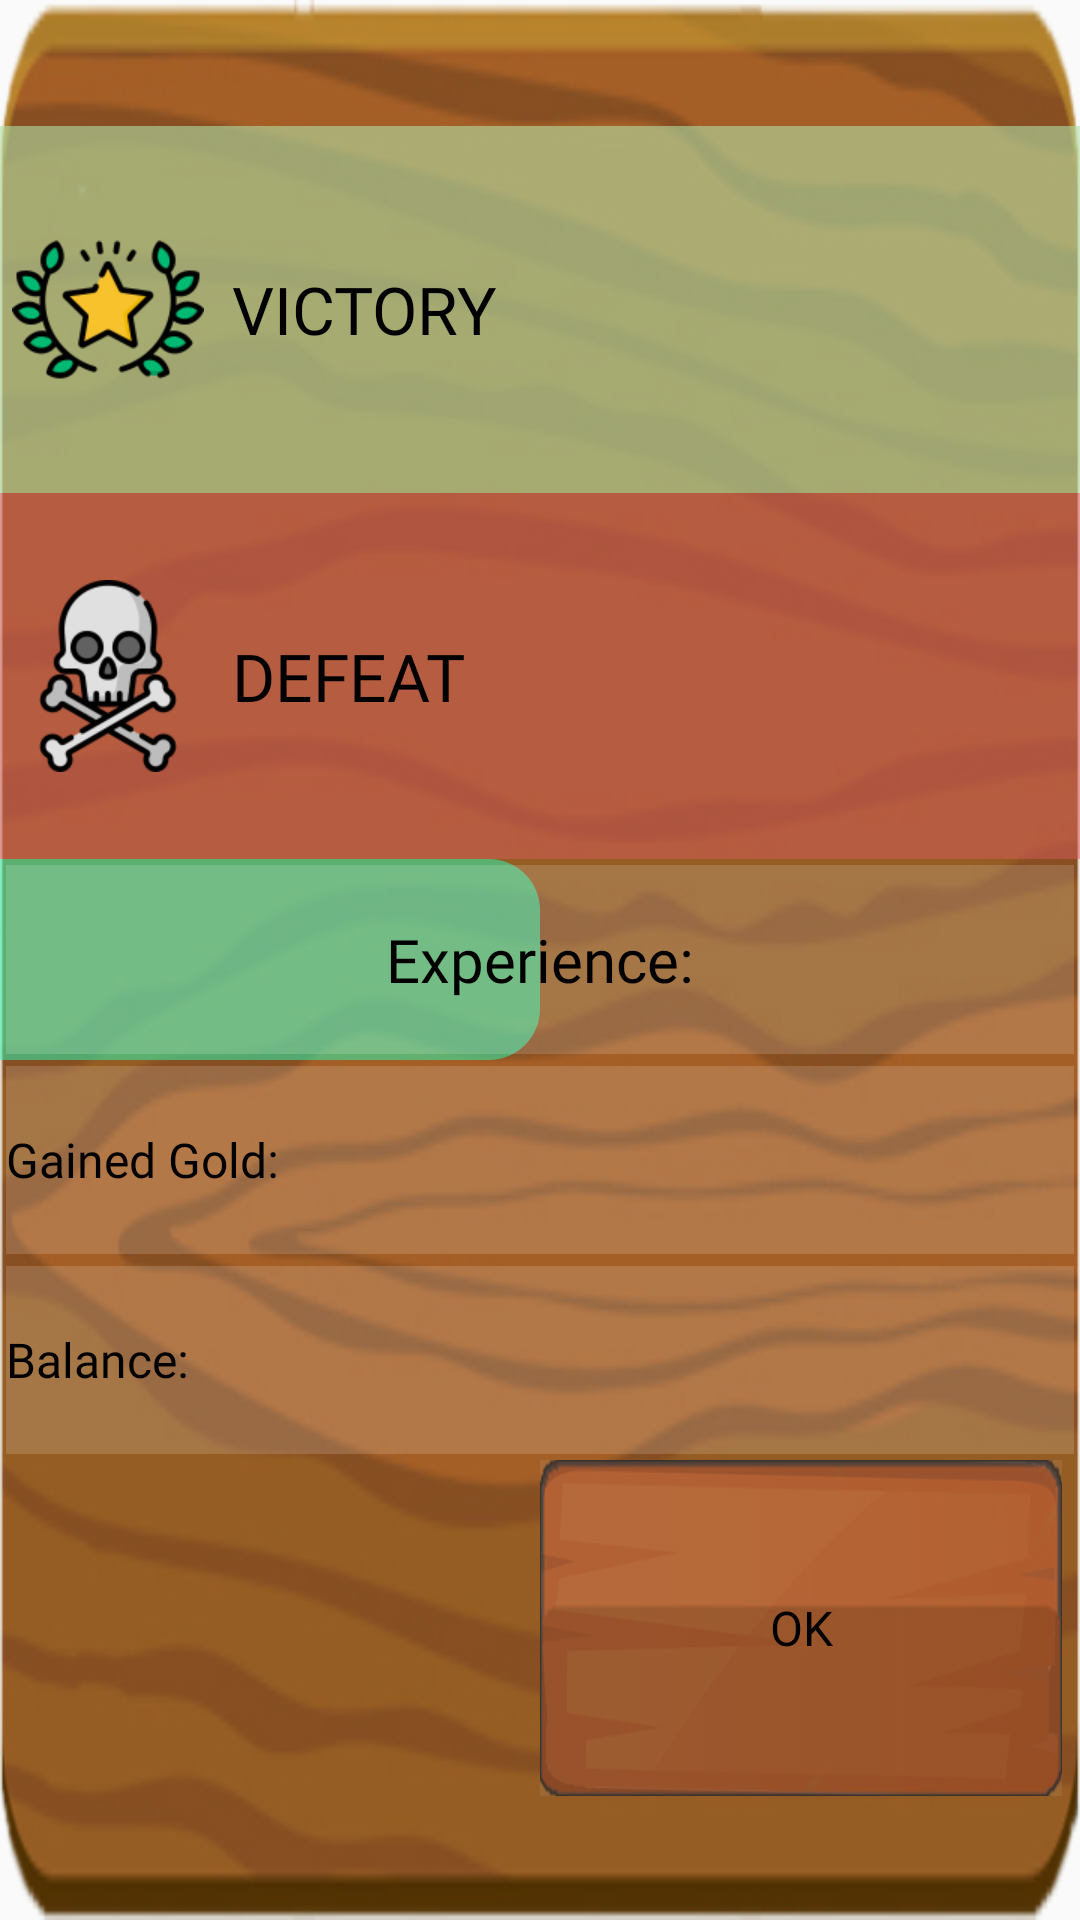

Icons on this 1080px×1920px Android screen, each with the point to tap as point (x, y):
dead: point (108, 676)
win: point (108, 309)
